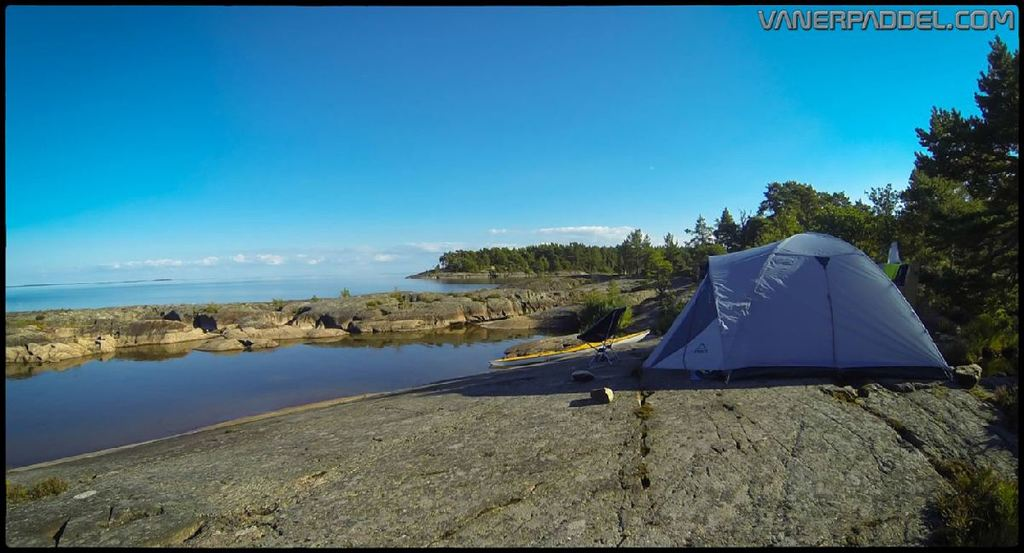Tree: (899, 81, 1009, 325), (442, 202, 737, 281), (733, 173, 884, 255), (575, 290, 634, 339)
